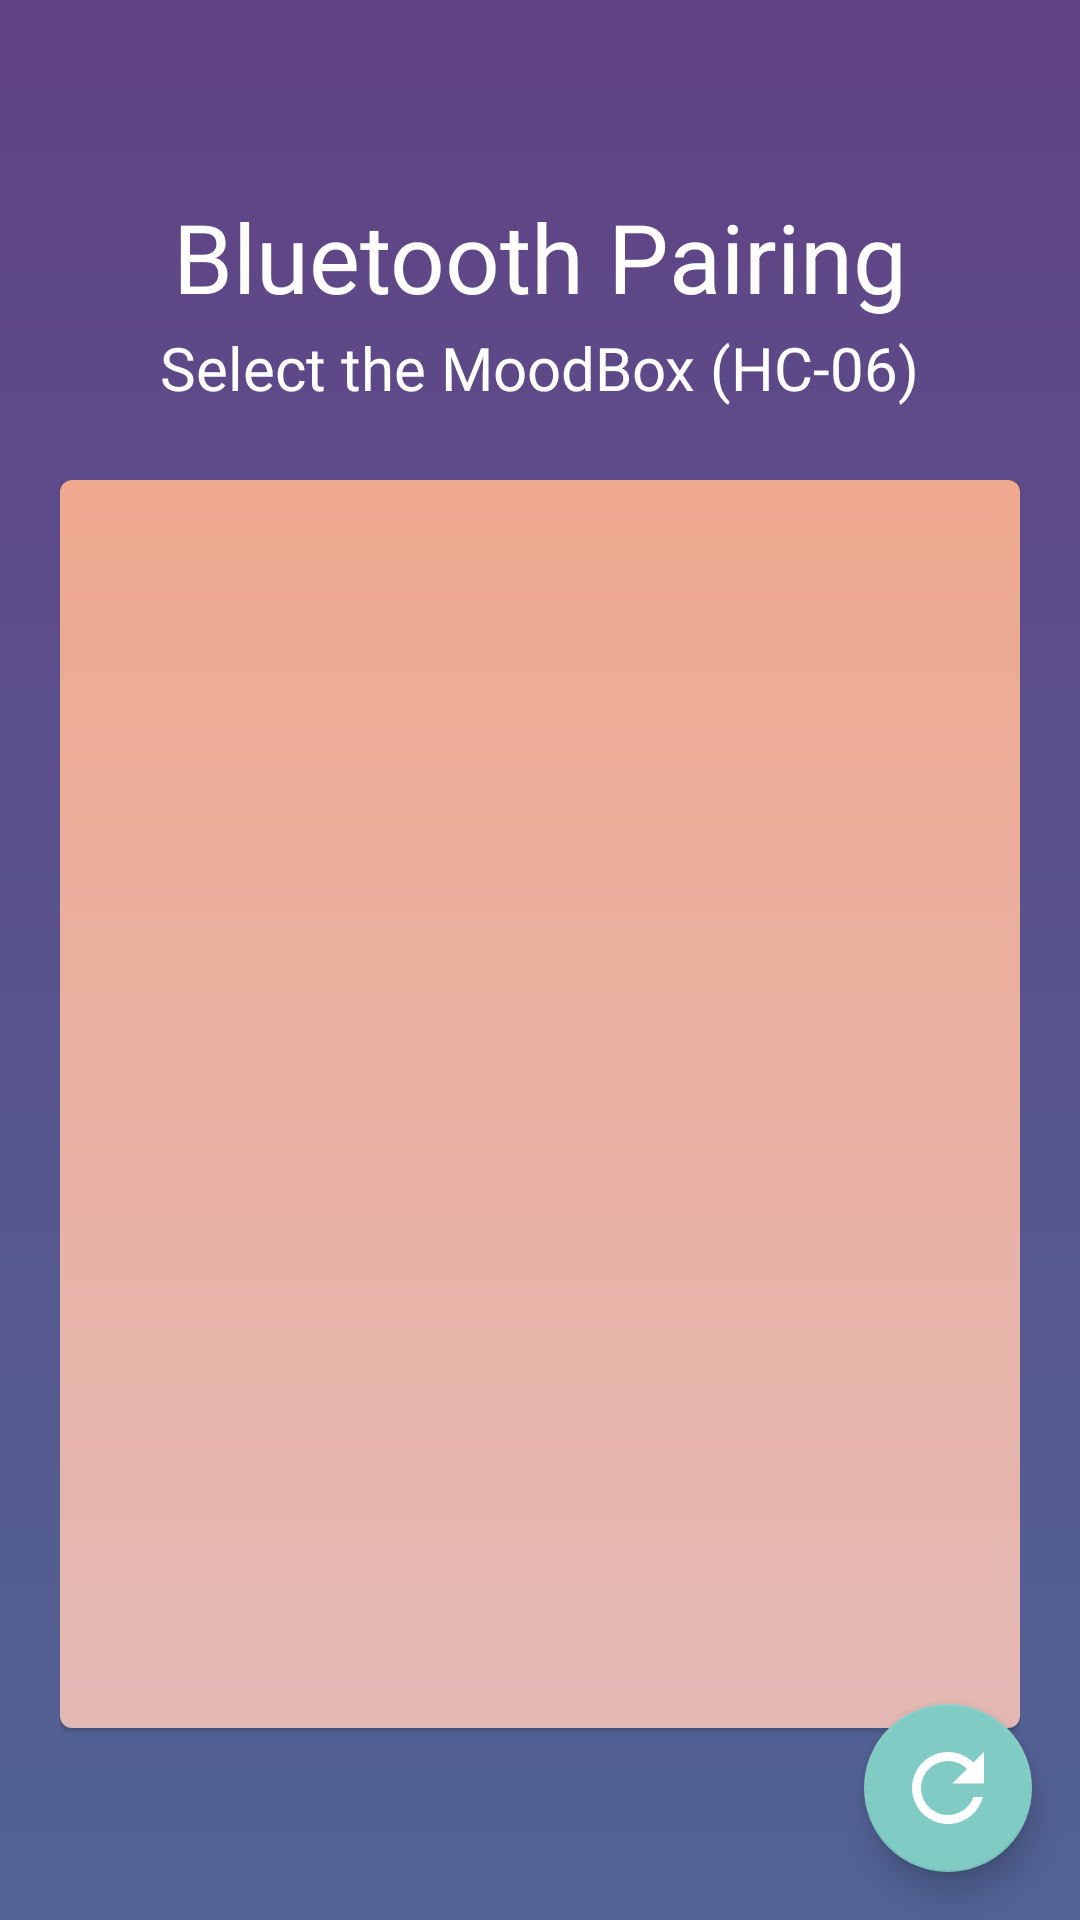

Where icons sit on this 1080px×1920px app screen, as [left=x1, top=y1, right=x2, bottom=y2]:
refresh: [left=864, top=1704, right=1032, bottom=1872]
